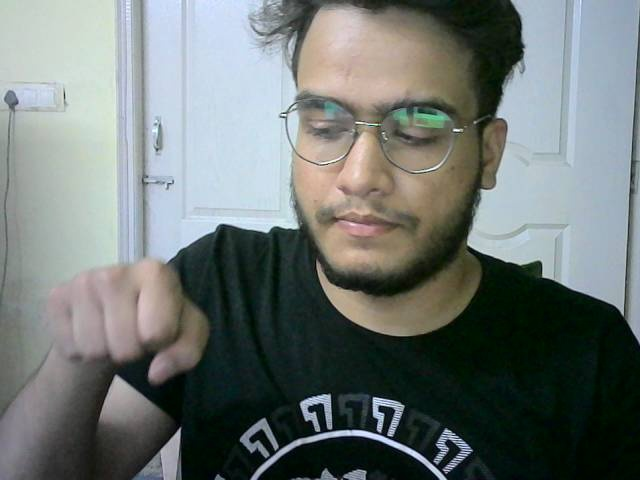Yes: (38, 256, 218, 380)
